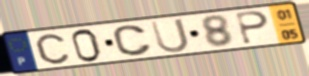0: (69, 27, 103, 63)
8: (199, 13, 236, 49)
C: (111, 24, 154, 58), (34, 32, 72, 65)
P: (233, 10, 270, 46)
U: (148, 17, 192, 55)
